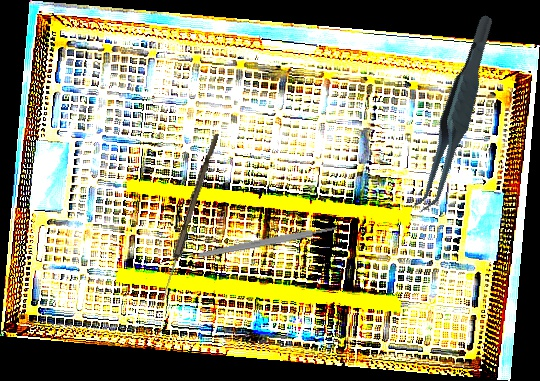Scalpel Handle: (197, 224, 338, 260)
Surgical Spoon: (158, 132, 220, 303)
Tissue Forceps: (377, 13, 534, 218)
